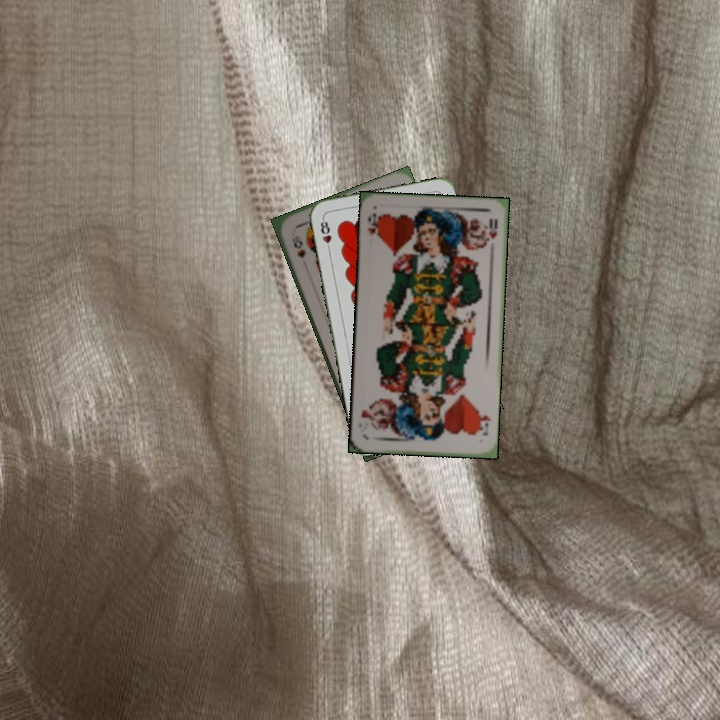H8: (316, 214, 334, 254)
HO: (363, 209, 382, 241), (474, 406, 493, 438)
S8: (288, 232, 308, 261)
